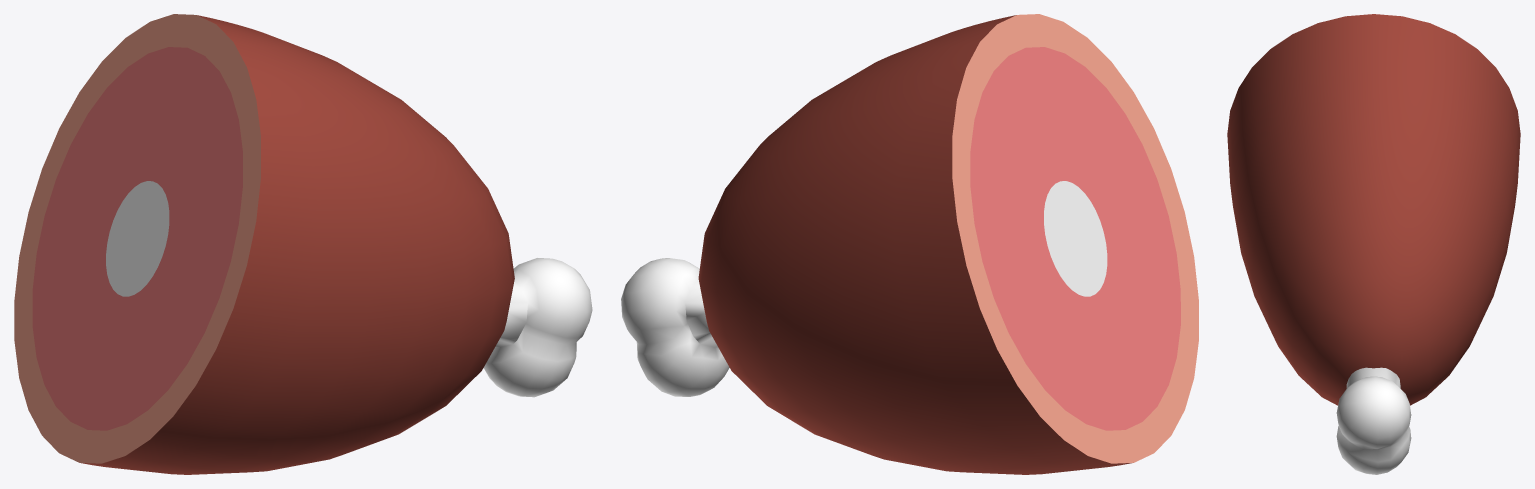
File: szynka.gltf
3 renders of one model, left to right at view 1: azimuth 30°, elevation 25°; view 2: azimuth 150°, elevation 25°; view 3: azimuth 270°, elevation 25°, orthographic. The views are drawn at different scales.
Parts seen in each view (by area): view 1: Sphere.002, Cylinder; view 2: Sphere.002, Cylinder; view 3: Sphere.002, Cylinder.
Part boxes in pixels (x1,y1,x2,y2): Sphere.002: [14, 14, 514, 474]; Cylinder: [483, 258, 592, 397]; Sphere.002: [698, 14, 1198, 474]; Cylinder: [621, 258, 729, 396]; Sphere.002: [1227, 14, 1520, 405]; Cylinder: [1336, 367, 1411, 474].
Bounding box in the file's own units: 0.218 × 0.176 × 0.1371.
1 material, 1 textured.
